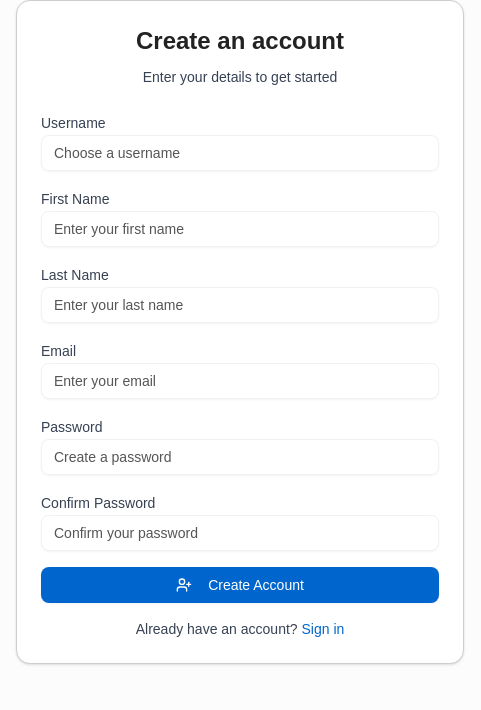
RegisterForm › shows error when passwords don't match
This screenshot has width=481, height=710.
Type "john" into the field with placeholder "Choose a username" at (240, 153), box [41,135,439,171]
Type "John" into the field with placeholder "Enter your first name" at (240, 229), box [41,211,439,247]
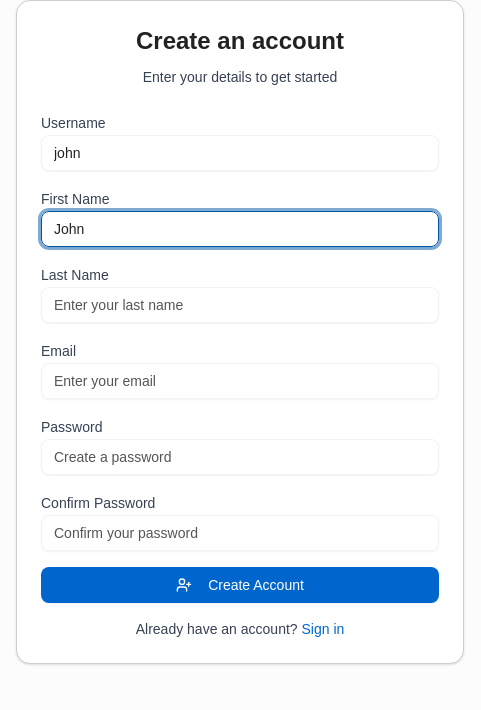
Type "Doe" into the field with placeholder "Enter your last name" at (240, 305), box [41,287,439,323]
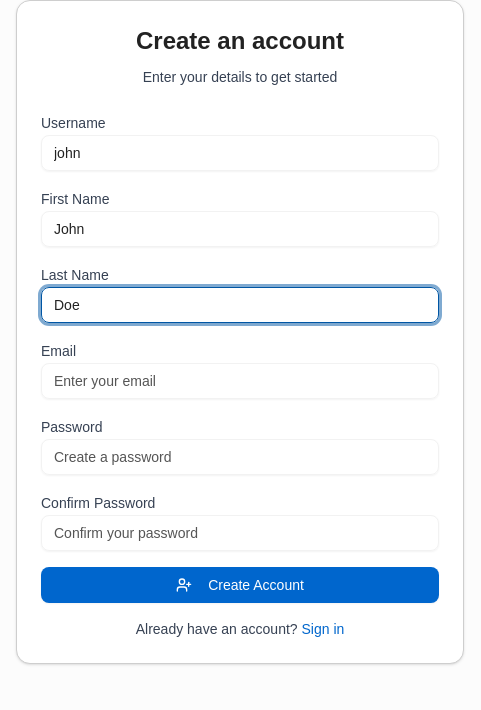
Type "john@example.com" into the field with placeholder "Enter your email" at (240, 381), box [41,363,439,399]
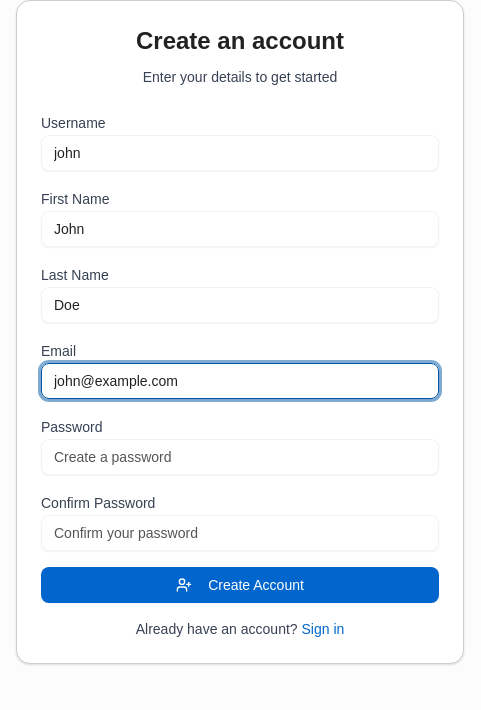
Type "secret" into the password field with placeholder "Create a password" at (240, 457), box [41,439,439,475]
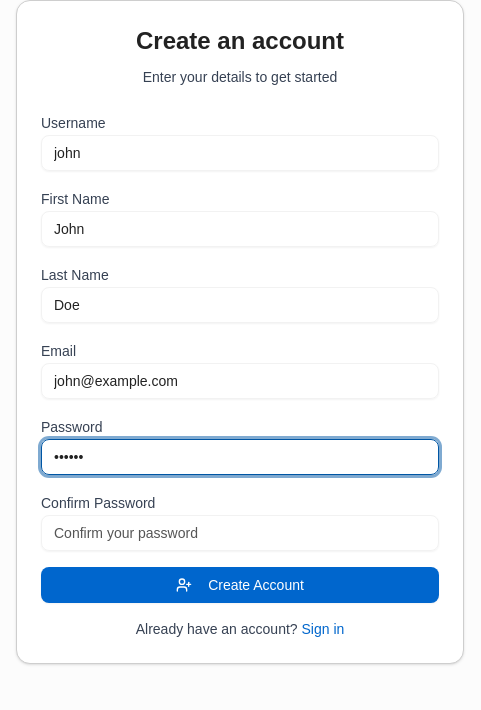
Type "different" into the password field with placeholder "Confirm your password" at (240, 533), box [41,515,439,551]
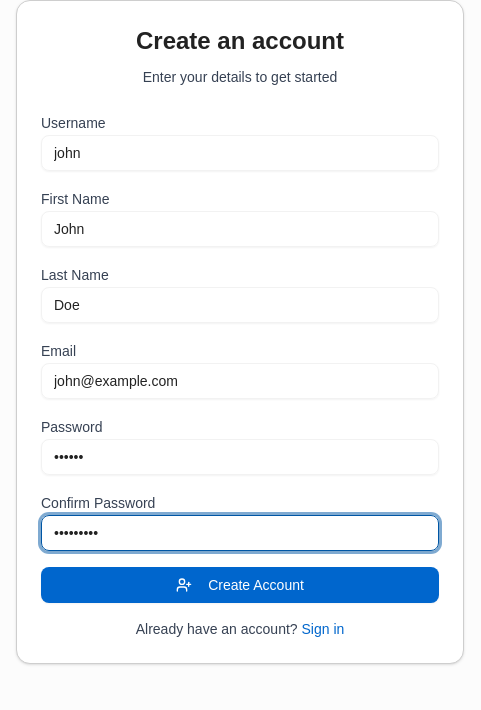
Click the button "Create Account" at (240, 585), box [41,567,439,603]
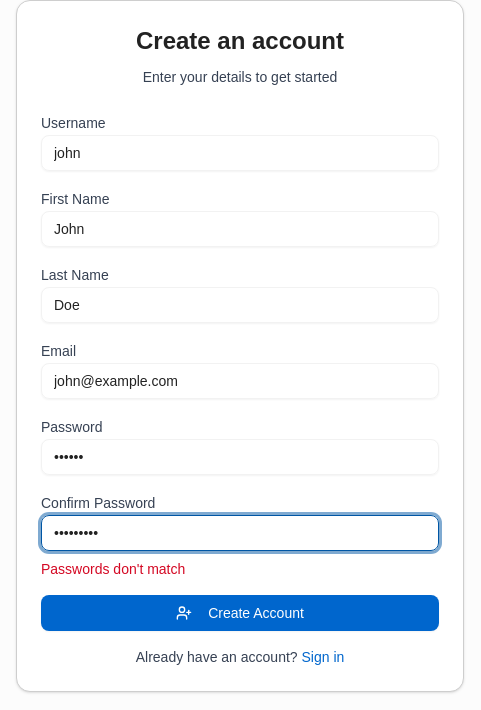
Result: the text "Passwords don't match" is shown at [41,561,185,577]
